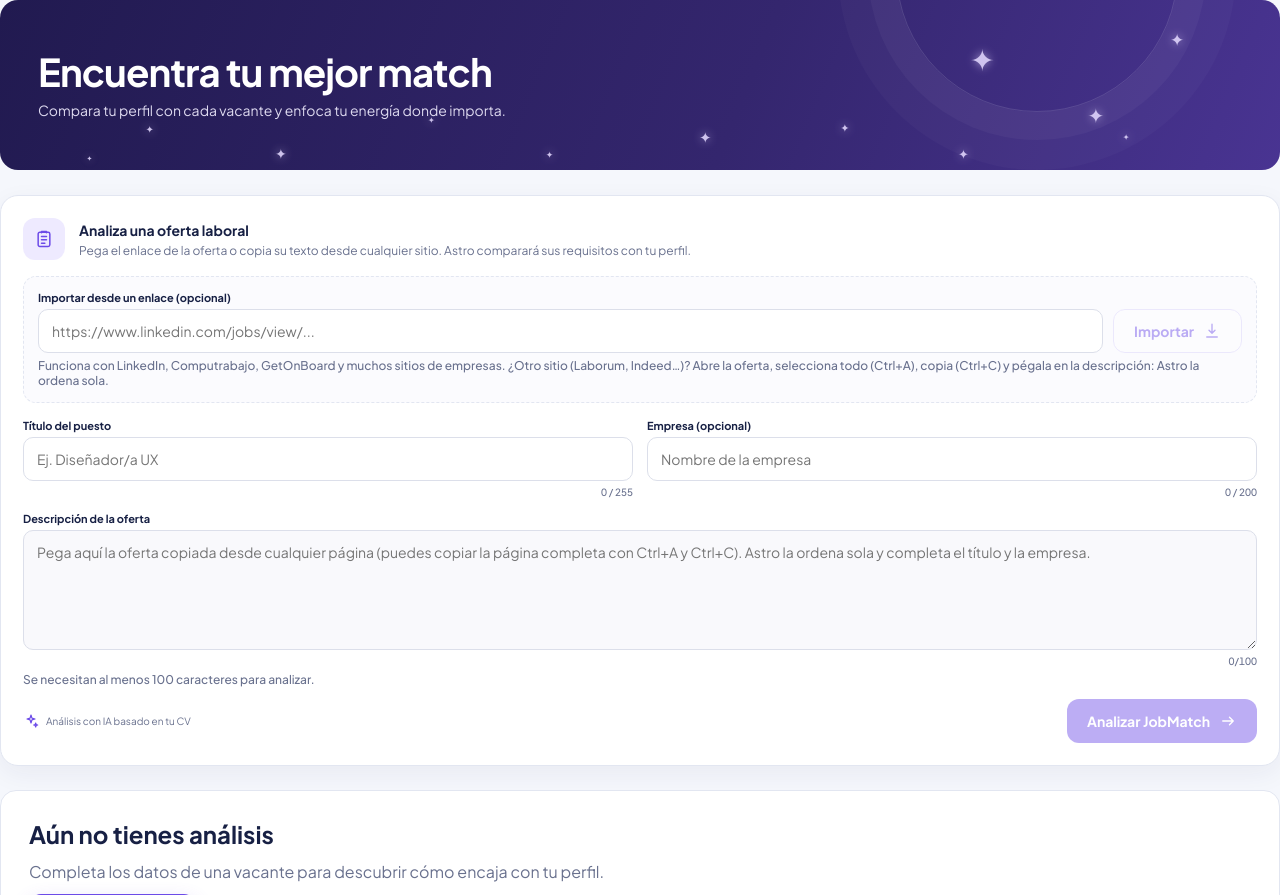
Test: JobMatchModule › shows extraction errors next to the link field with a hint to paste the text
Type "https://www.indeed.com/viewjob?jk=1" into the field named "Enlace de la oferta" at (571, 331), box [38, 309, 1103, 353]
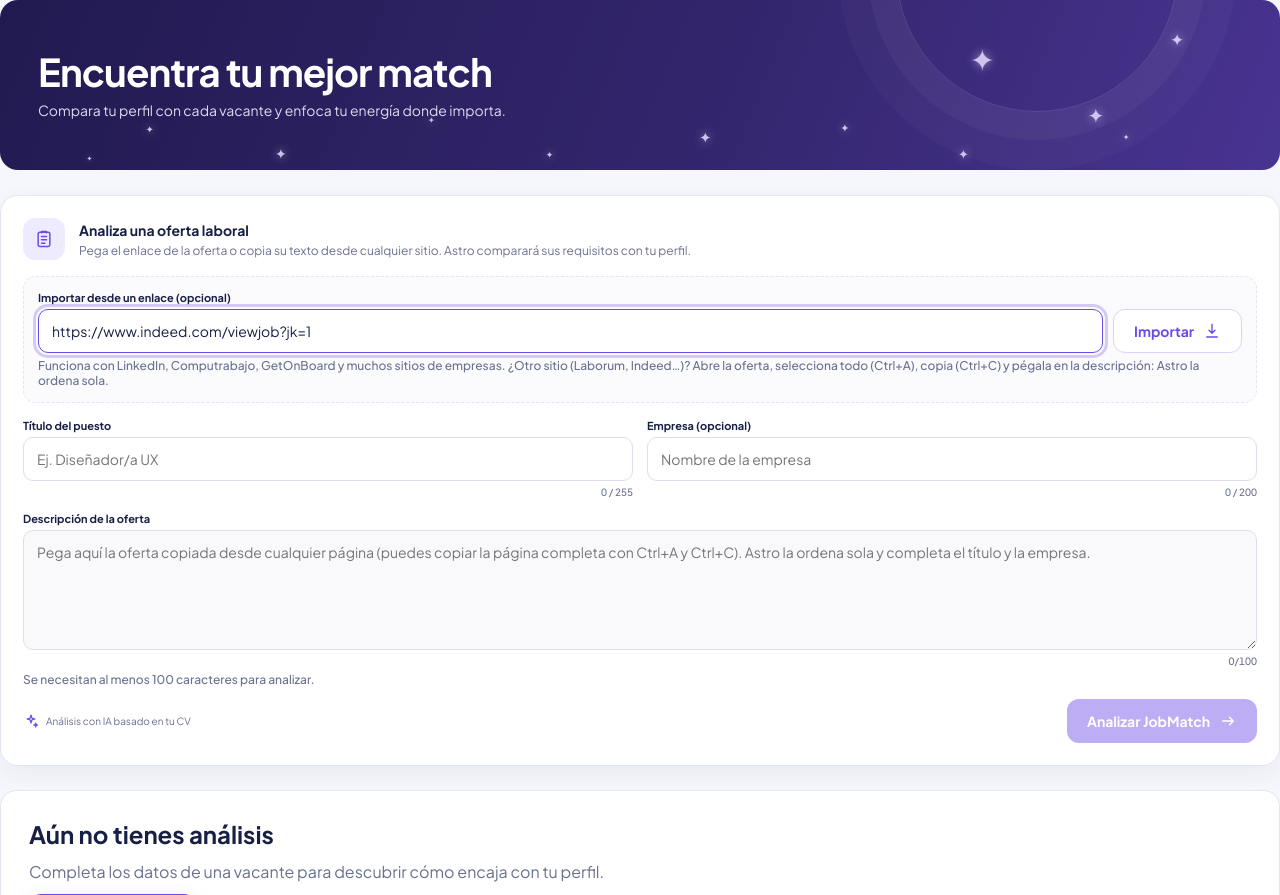
Click the button "Importar" at (1178, 331), box [1113, 309, 1242, 353]
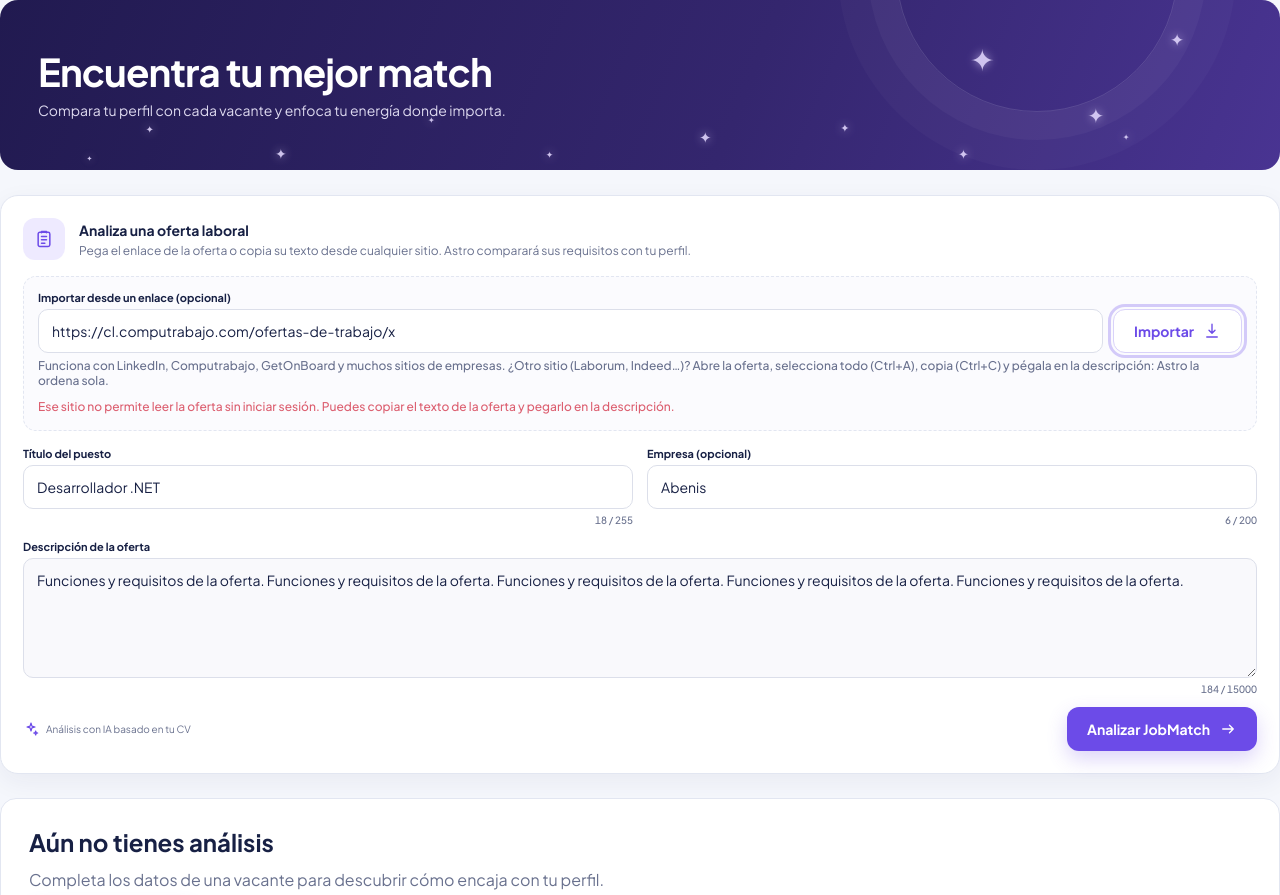
Expected: the message shows "no permite leer la oferta", [38, 399, 320, 414]
Expected: the message shows "pegarlo en la descripción", [320, 399, 675, 414]
